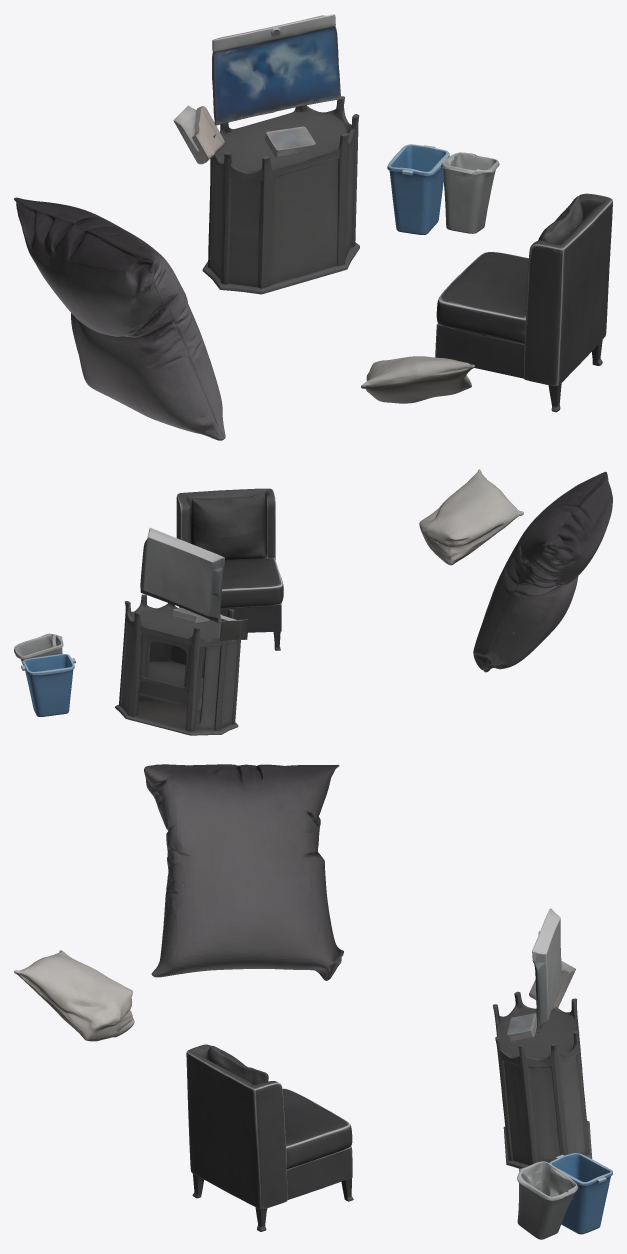
File: ours.glb
3 views of the same model, one above another, from view 1: azimuth 30°, elevation 25°; view 2: azimuth 150°, elevation 25°; view 3: azimuth 270°, elevation 25° (orthographic). The views are drawn at different scales.
Visible parts, largest first — view 1: world; view 2: world; view 3: world.
Part boxes in pixels (bbox=[...]): world: bbox=[14, 14, 612, 440]; world: bbox=[14, 469, 612, 735]; world: bbox=[14, 764, 612, 1239].
Bounding box in the file's own units: 3.76 × 1.61 × 3.59.
